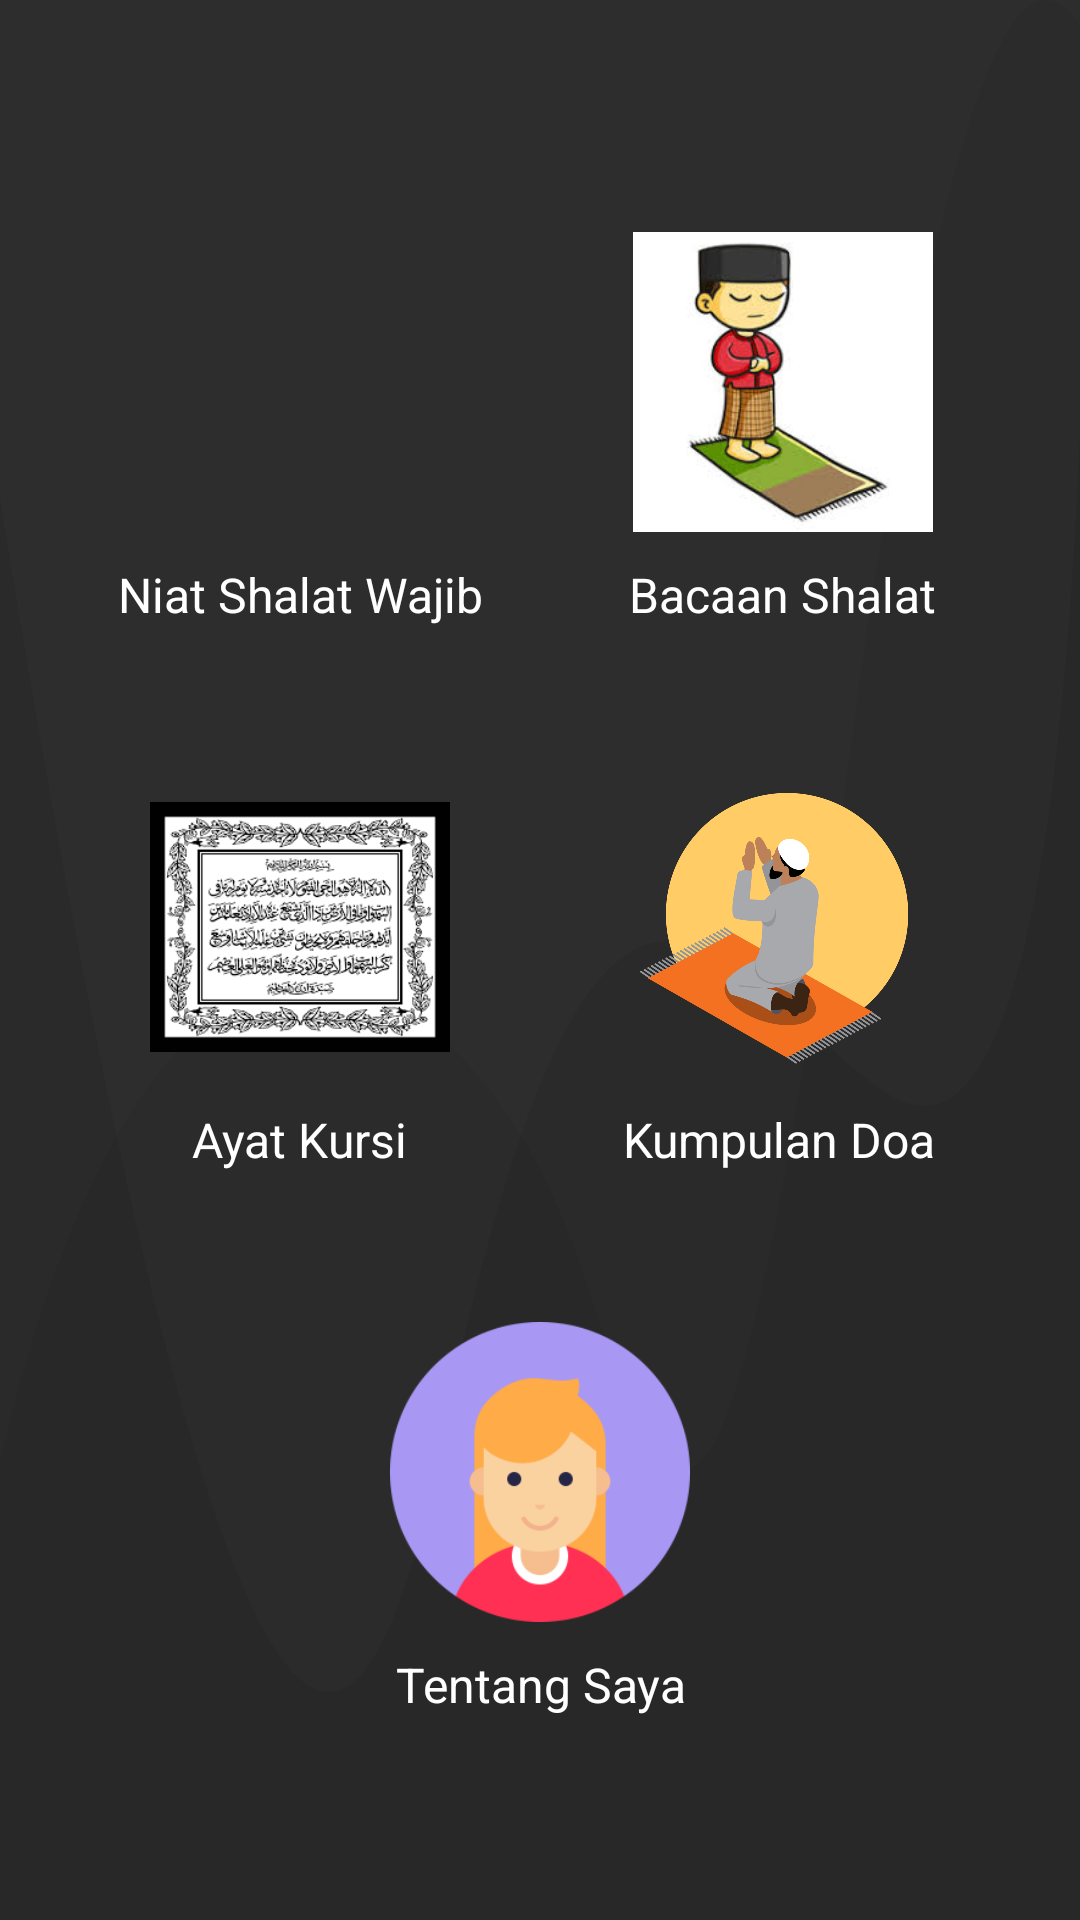

Icons on this 1080px x 1920px Android screen, each with the point to tap as point (x, y):
user: point (540, 1472)
